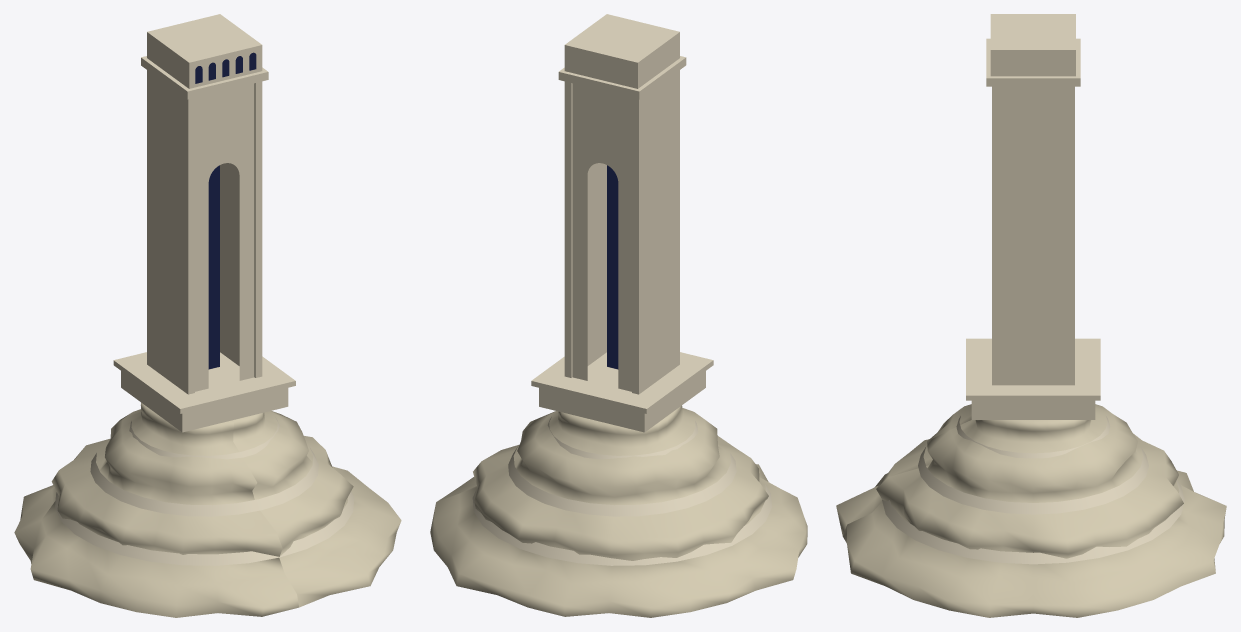
Rendered from tower.glb.
3 renders of one model, left to right at view 1: azimuth 30°, elevation 25°; view 2: azimuth 150°, elevation 25°; view 3: azimuth 270°, elevation 25°, orthographic.
Parts seen in each view (by area): view 1: tower, doorway; view 2: tower, doorway; view 3: tower.
Boxes of the visible parts, x1,y1,x2,y2 form: tower: [14, 14, 401, 617]; doorway: [208, 165, 219, 369]; tower: [430, 14, 807, 617]; doorway: [607, 165, 618, 369]; tower: [836, 14, 1226, 617].
Size of the model in its own units: 35.27 by 49.6 by 34.82.
